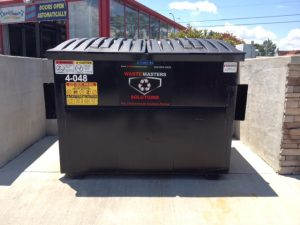Dumpster: (42, 34, 250, 187)
